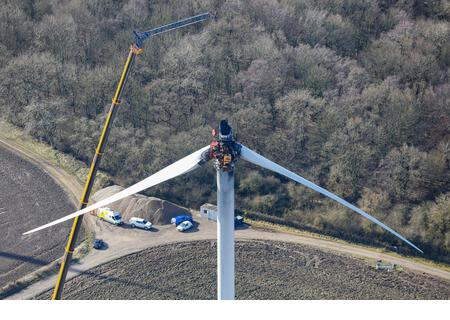faulty: (119, 115, 295, 200)
